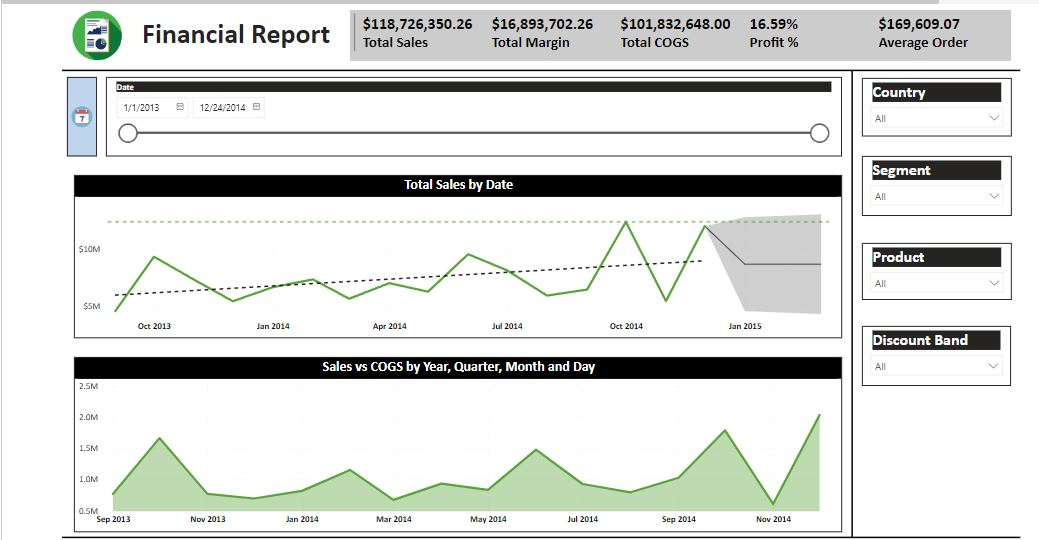

This screenshot's page, from the dashboard's own definition file:
{"tool":"powerbi","page":{"name":"Report 2","canvas":[1280,720],"ordinal":1},"visuals":[{"type":"textbox","box":[80.5,11.3,304.9,69.2],"z":0},{"type":"image","box":[0,4.3,94.2,75.6],"z":1000},{"type":"multiRowCard","fields":{"Values":["All Measures.Total Sales","All Measures.Total Margin","All Measures.Total COGS","All Measures.Profit %","All Measures.Average Order"]},"box":[385.3,8.6,883.3,68.5],"z":2000},{"type":"shape","box":[0,79.9,1280,17.1],"z":3000},{"type":"slicer","fields":{"Values":["financials.Country"]},"box":[1068.7,98.8,200.5,77.6],"z":4000},{"type":"slicer","fields":{"Values":["financials.Segment"]},"box":[1068.7,203.3,200.5,80.5],"z":5000},{"type":"slicer","fields":{"Values":["financials.Product"]},"box":[1068.7,319.1,200.5,76.2],"z":6000},{"type":"slicer","fields":{"Values":["financials.Discount Band"]},"box":[1068.7,430.6,199.1,80.5],"z":7000},{"type":"shape","box":[1041.7,88.5,27.1,623.6],"z":8000},{"type":"shape","box":[0,703.5,1280,17.1],"z":9000},{"type":"areaChart","fields":{"Y":["All Measures.Sales vs COGS"],"Category":["Date.Date.Variation.Date Hierarchy.Year","Date.Date.Variation.Date Hierarchy.Quarter","Date.Date.Variation.Date Hierarchy.Month","Date.Date.Variation.Date Hierarchy.Day"]},"box":[15.7,470.9,1026,234],"z":10000},{"type":"lineChart","fields":{"Category":["financials.Date"],"Y":["All Measures.Total Sales"]},"box":[15.7,228.3,1026,218.3],"z":11000},{"type":"slicer","fields":{"Values":["Date.Date"]},"box":[58.5,97,983.2,105.6],"z":12000},{"type":"image","box":[7.1,97,40,105.6],"z":13000}]}

Visuals, with their boxes on the page's 1280x720 design canvas (x1, y1, x2, y2). These are canvas units, not pixel positions in the 1039x540 screenshot, which may show the page scaled, cropped or inside an application window:
textbox: <bbox>80, 11, 385, 80</bbox>
image: <bbox>0, 4, 94, 80</bbox>
multiRowCard - All Measures.Total Sales x All Measures.Total Margin: <bbox>385, 9, 1269, 77</bbox>
shape: <bbox>0, 80, 1280, 97</bbox>
slicer - financials.Country: <bbox>1069, 99, 1269, 176</bbox>
slicer - financials.Segment: <bbox>1069, 203, 1269, 284</bbox>
slicer - financials.Product: <bbox>1069, 319, 1269, 395</bbox>
slicer - financials.Discount Band: <bbox>1069, 431, 1268, 511</bbox>
shape: <bbox>1042, 88, 1069, 712</bbox>
shape: <bbox>0, 704, 1280, 721</bbox>
areaChart - All Measures.Sales vs COGS x Date.Date.Variation.Date Hierarchy.Year: <bbox>16, 471, 1042, 705</bbox>
lineChart - financials.Date x All Measures.Total Sales: <bbox>16, 228, 1042, 447</bbox>
slicer - Date.Date: <bbox>58, 97, 1042, 203</bbox>
image: <bbox>7, 97, 47, 203</bbox>
